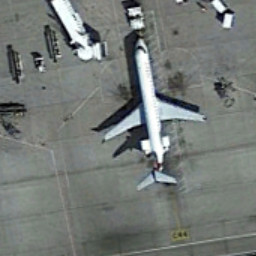Airplane: (75, 28, 218, 197)
